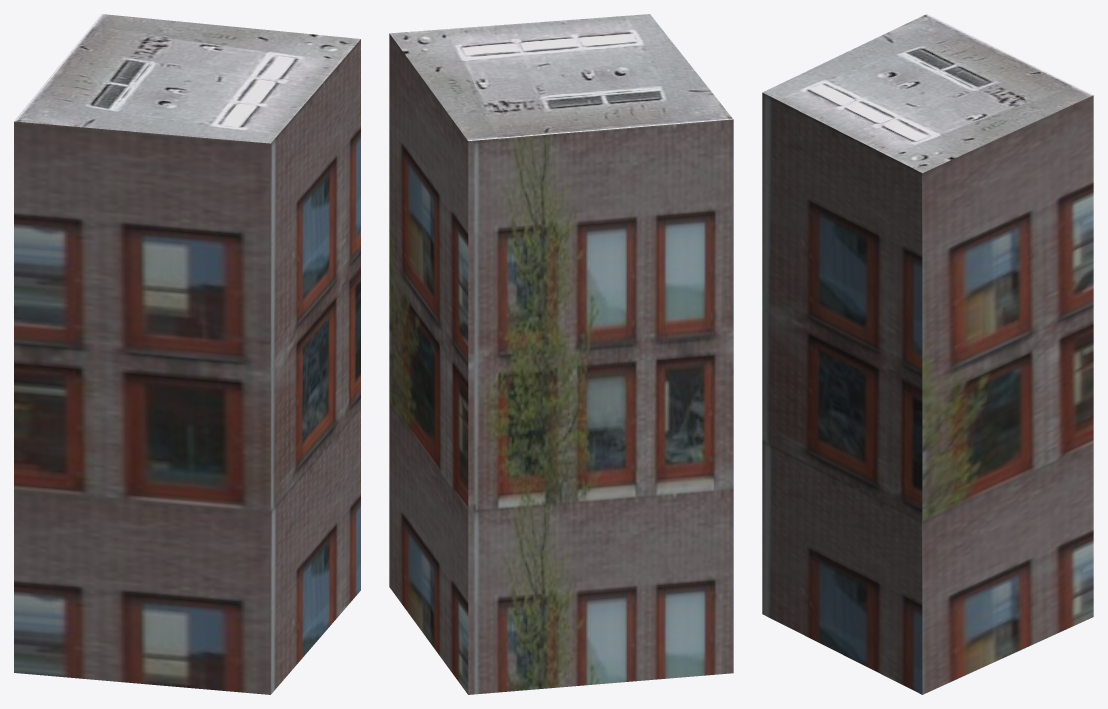
Rendered from EduTex__19.fbx.
The picture shows the model from 3 angles, left to right: view 1: azimuth 30°, elevation 25°; view 2: azimuth 150°, elevation 25°; view 3: azimuth 270°, elevation 25°; orthographic projection. The views are drawn at different scales.
Parts seen in each view (by area): view 1: CityEngineMaterial_9_m, CityEngineMaterial_8_m; view 2: CityEngineMaterial_9_m, CityEngineMaterial_8_m; view 3: CityEngineMaterial_9_m, CityEngineMaterial_8_m.
Part boxes in pixels (bbox=[...]): CityEngineMaterial_9_m: bbox=[14, 39, 360, 694]; CityEngineMaterial_8_m: bbox=[14, 14, 360, 143]; CityEngineMaterial_9_m: bbox=[389, 33, 733, 694]; CityEngineMaterial_8_m: bbox=[390, 14, 732, 140]; CityEngineMaterial_9_m: bbox=[762, 92, 1093, 694]; CityEngineMaterial_8_m: bbox=[762, 14, 1092, 172].
Bounding box in the file's own units: 7.85 × 12 × 6.9.
2 materials, 2 textured.
